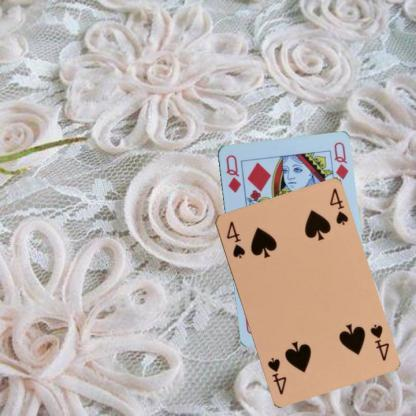4s: (224, 218, 246, 260), (367, 322, 390, 362)
Qd: (223, 152, 242, 194)
